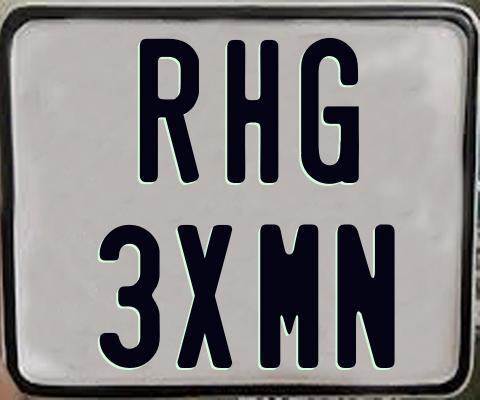3: (97, 222, 157, 367)
G: (300, 36, 360, 183)
H: (227, 37, 279, 181)
M: (257, 224, 316, 372)
N: (337, 224, 398, 373)
R: (139, 37, 202, 182)
X: (175, 222, 230, 371)
